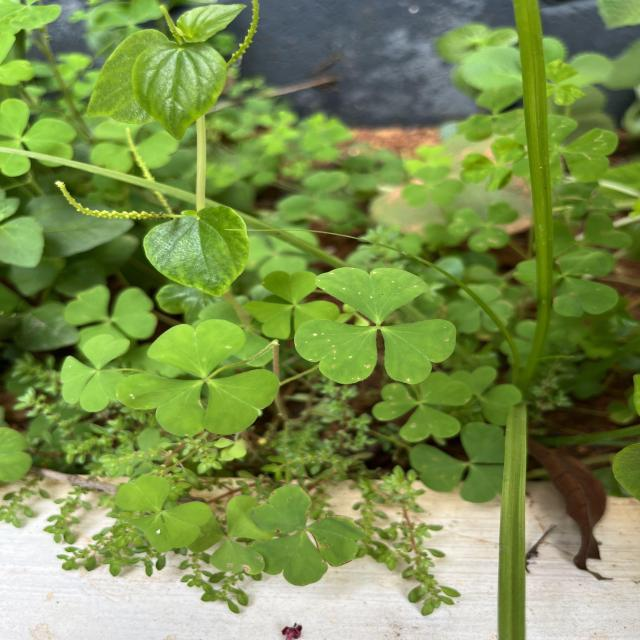Oxalis corniculata: (293, 264, 458, 386), (115, 316, 282, 436), (249, 481, 369, 587), (114, 470, 210, 556), (242, 270, 342, 340), (374, 371, 467, 440), (58, 332, 124, 412)
